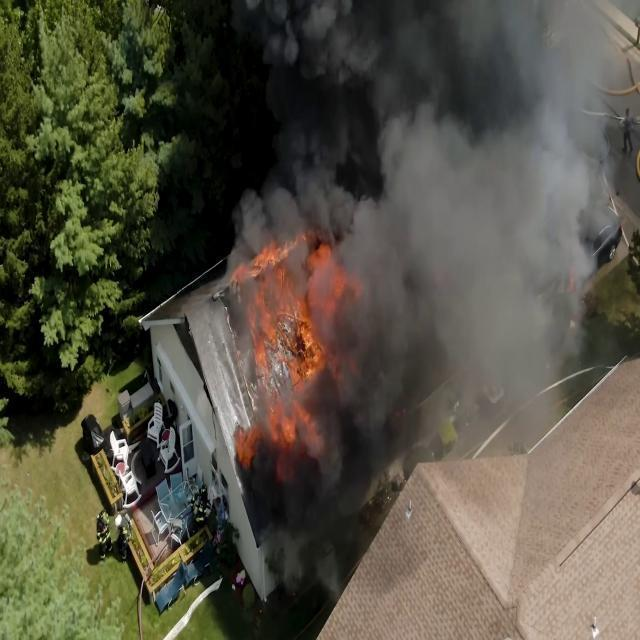Fire: (242, 254, 327, 391)
Smoke: (355, 5, 586, 177), (392, 137, 534, 349)
